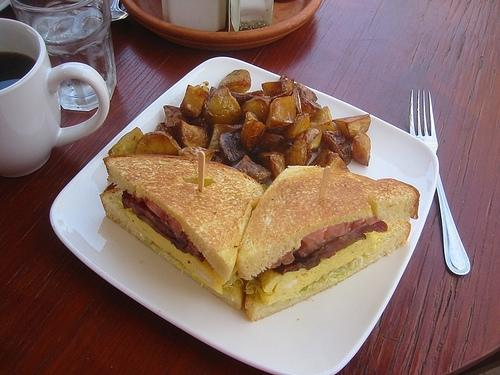potato: (201, 85, 242, 127), (231, 154, 272, 184), (208, 86, 266, 107), (134, 131, 182, 156), (320, 130, 352, 166), (206, 123, 244, 152), (108, 126, 144, 156), (308, 148, 351, 173), (331, 114, 372, 140), (266, 96, 296, 131), (240, 111, 266, 151), (179, 84, 209, 118), (174, 121, 210, 148), (255, 150, 285, 182), (219, 132, 247, 166), (240, 95, 270, 125), (280, 113, 310, 142), (284, 139, 312, 169), (218, 69, 251, 93), (291, 128, 323, 152), (262, 78, 295, 98), (352, 130, 370, 166), (178, 146, 215, 161), (163, 106, 189, 127), (256, 132, 283, 152), (299, 94, 321, 118), (310, 106, 332, 128), (293, 83, 318, 102)
